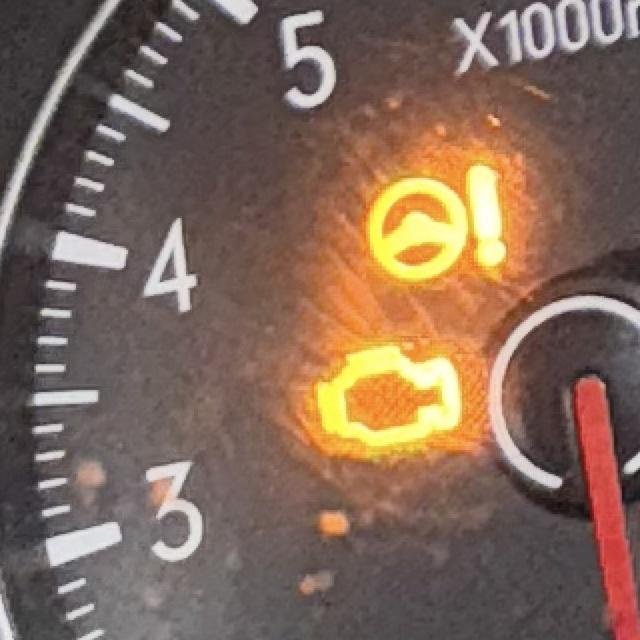Engine Issue: (315, 345, 465, 449)
Steering Wheel Locked: (367, 164, 510, 284)
